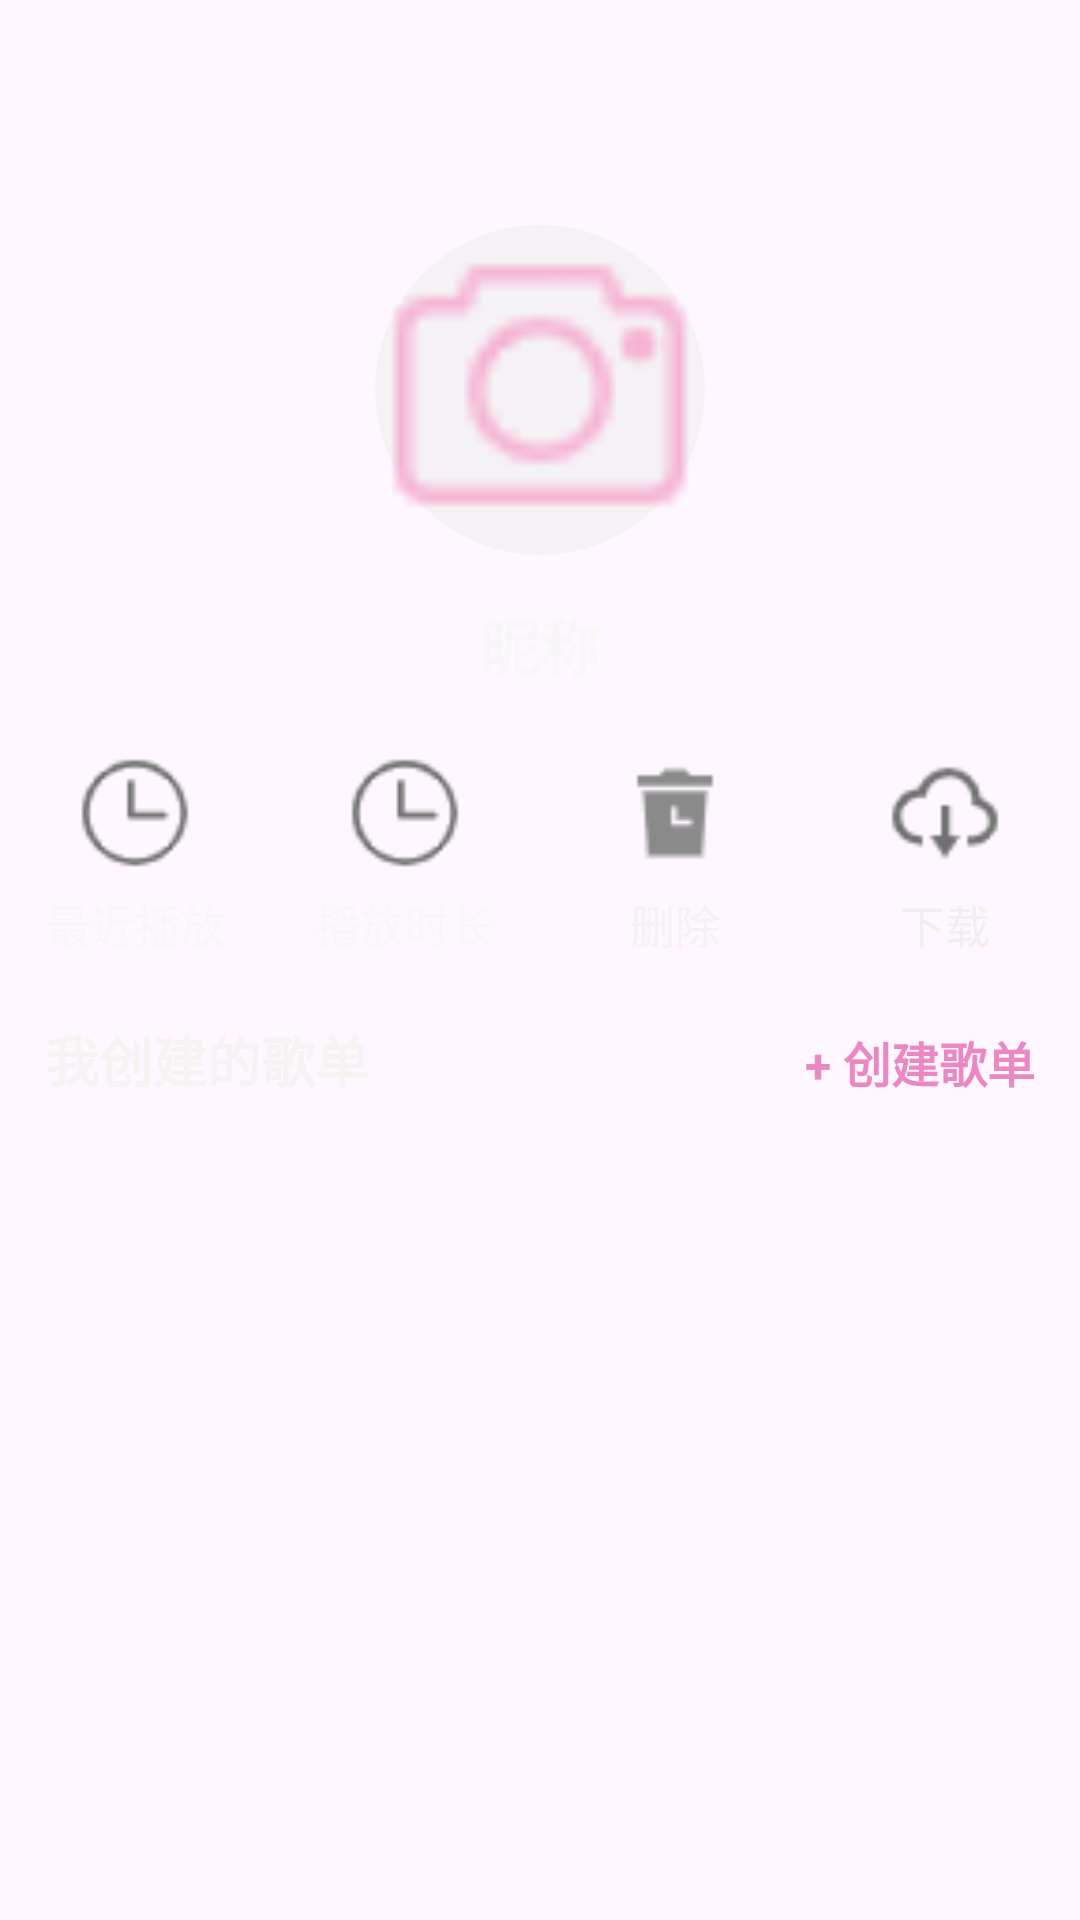

Where to tap for icons on this 1080 x 1920 app screen, as [x,y]:
delet: [675,813]
